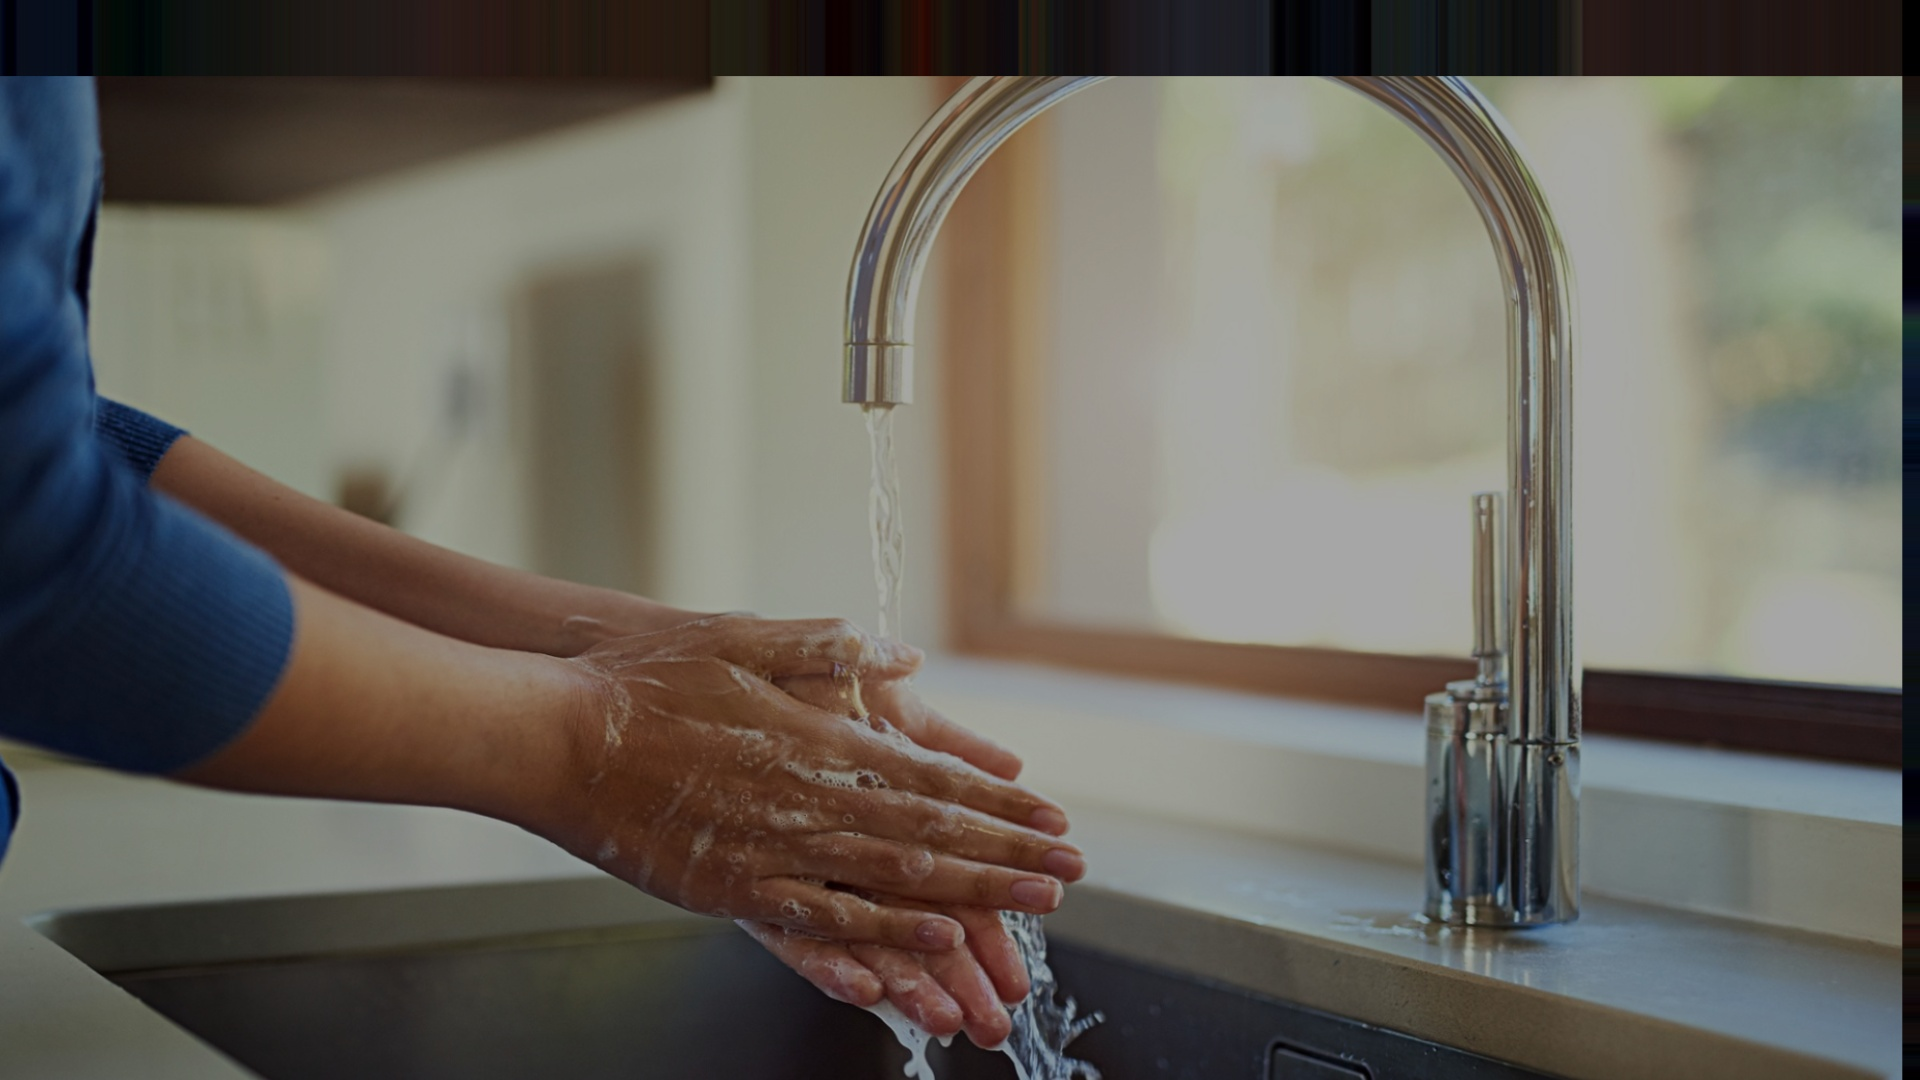washing hand: (549, 88, 1431, 1079)
